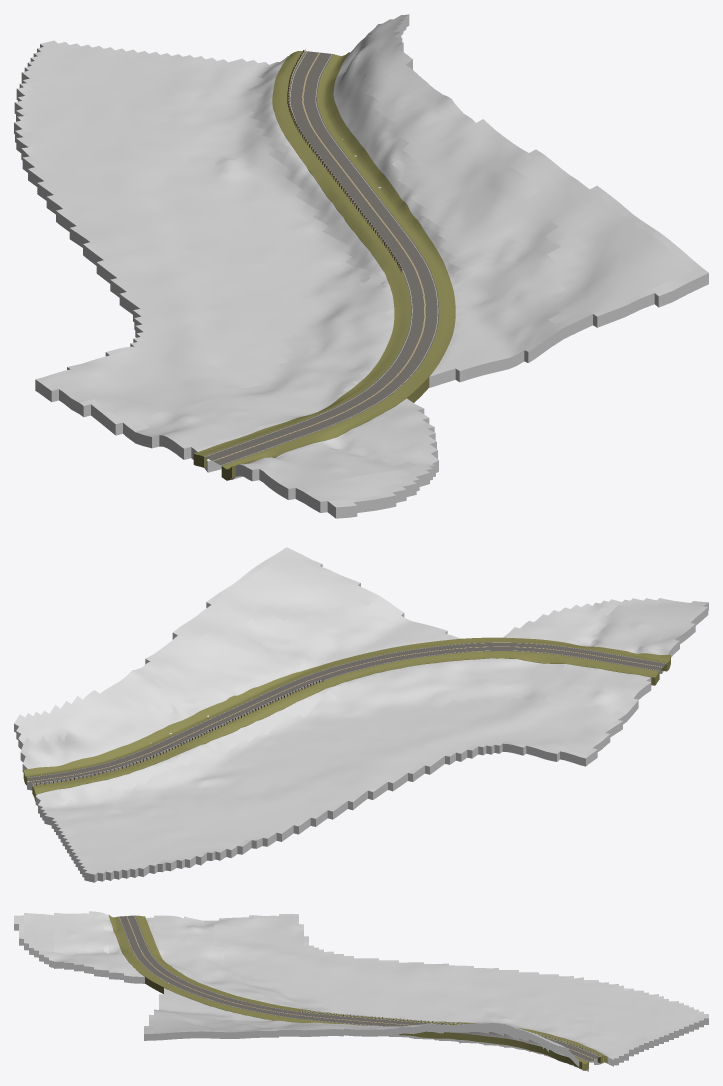
The model's file is conz_40.glb.
The picture shows the model from 3 angles, top to bottom: view 1: azimuth 30°, elevation 25°; view 2: azimuth 150°, elevation 25°; view 3: azimuth 270°, elevation 25°; orthographic projection. The views are drawn at different scales.
Visible parts, largest first — view 1: terrain40, road40, verge40R, verge40L, paint_white40, paint_yellow40; view 2: terrain40, road40, verge40L, verge40R, paint_white40, paint_yellow40; view 3: terrain40, road40, verge40R, verge40L, paint_white40, beam40_31150, paint_yellow40.
Part boxes in pixels (x1,y1,x2,y2): terrain40: (14, 14, 708, 518); road40: (204, 51, 439, 465); verge40R: (221, 52, 455, 480); verge40L: (193, 51, 410, 467); paint_white40: (205, 51, 438, 465); paint_yellow40: (213, 52, 425, 461); terrain40: (14, 547, 708, 882); road40: (27, 642, 666, 785); verge40L: (32, 651, 659, 801); verge40R: (23, 637, 670, 785); paint_white40: (27, 642, 665, 785); paint_yellow40: (31, 646, 661, 781); terrain40: (14, 911, 708, 1071); road40: (118, 915, 600, 1061); verge40R: (108, 915, 588, 1070); verge40L: (135, 915, 607, 1063); paint_white40: (119, 915, 599, 1060); beam40_31150: (299, 1009, 600, 1055); paint_yellow40: (126, 916, 594, 1059).
Bounding box in the file's own units: 162 × 24.7 × 278.
